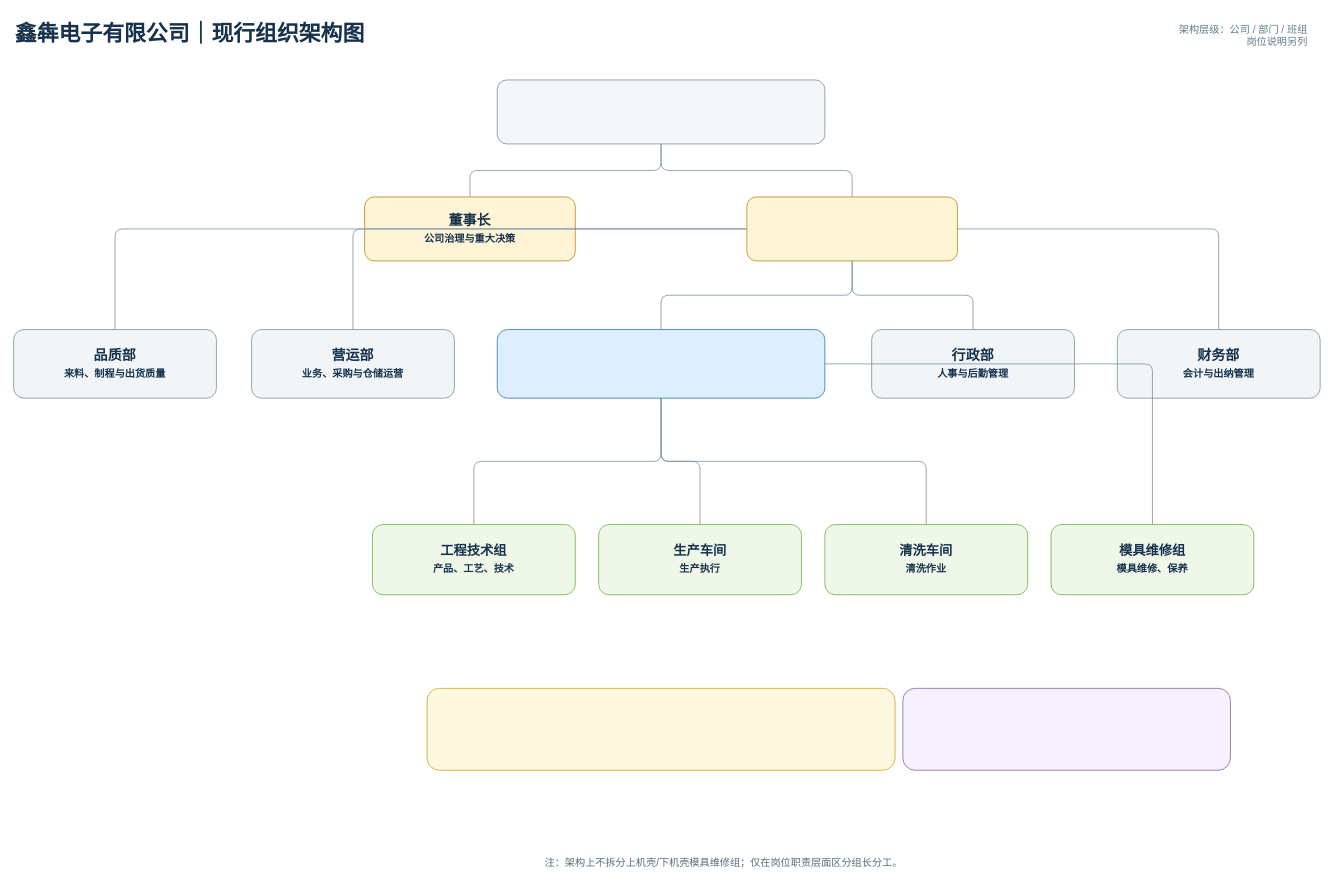
Image size: 1334x892. Some labels were removed from this diagram. Each missing label, with the centre of its shape:
公司组织单元 管理概念，不绑定实体负责人: the point at 660,111
总经理 经营管理与统一协调: the point at 851,228
模具维修组岗位划分 上机壳模具组长 ｜ 下机壳模具组长 模具检修工（按实际分工执行）: the point at 1066,729
生产部 生产计划与现场执行: the point at 660,363
生产部办公文员岗位：生产计划员 部门成员岗位，不单独列为组织单元；负责排产、物料齐套核查、进度跟踪: the point at 660,729
